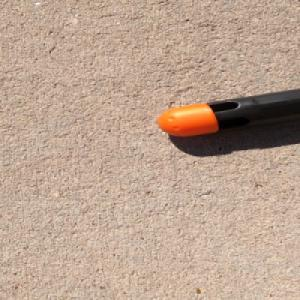PlasticPart: (155, 87, 300, 137)
